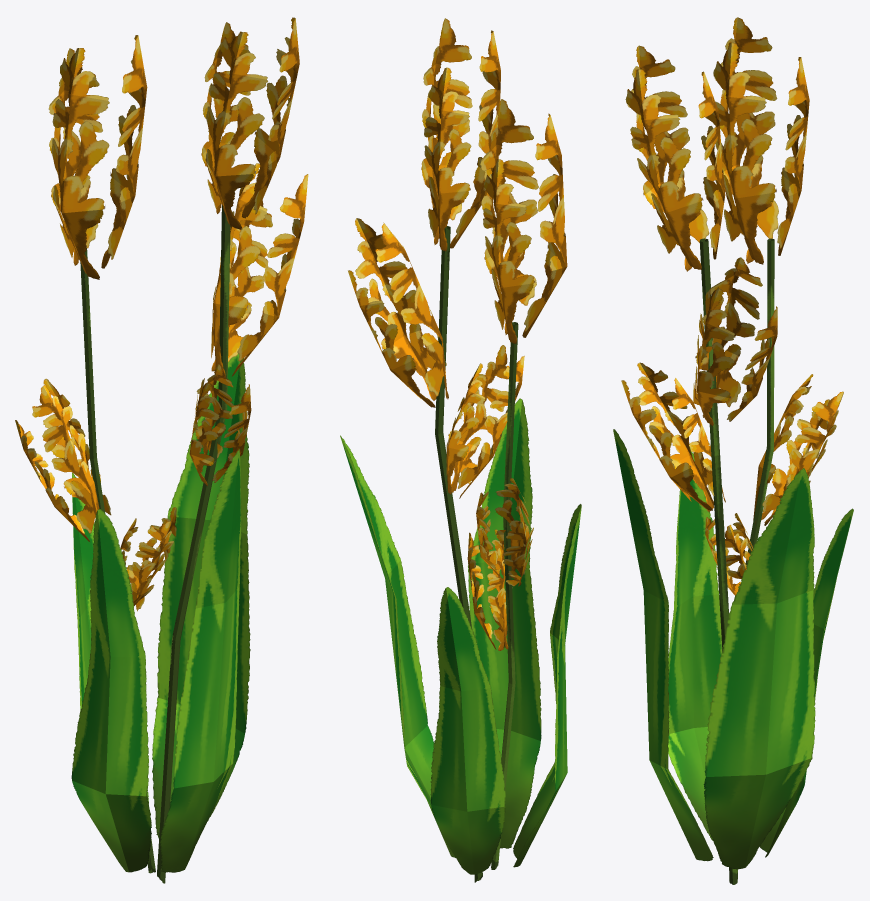
File: Stalk plant.fbx
3 views of the same model, side by side, from view 1: azimuth 30°, elevation 25°; view 2: azimuth 150°, elevation 25°; view 3: azimuth 270°, elevation 25° (orthographic). The views are drawn at different scales.
Parts seen in each view (by area): view 1: Plane.024; view 2: Plane.024; view 3: Plane.024.
Boxes of the visible parts, bbox=[...] form: Plane.024: bbox=[15, 17, 308, 883]; Plane.024: bbox=[340, 18, 581, 882]; Plane.024: bbox=[613, 17, 853, 884].
Size of the model in its own units: 442 by 1570 by 404.
1 material, 1 textured.
